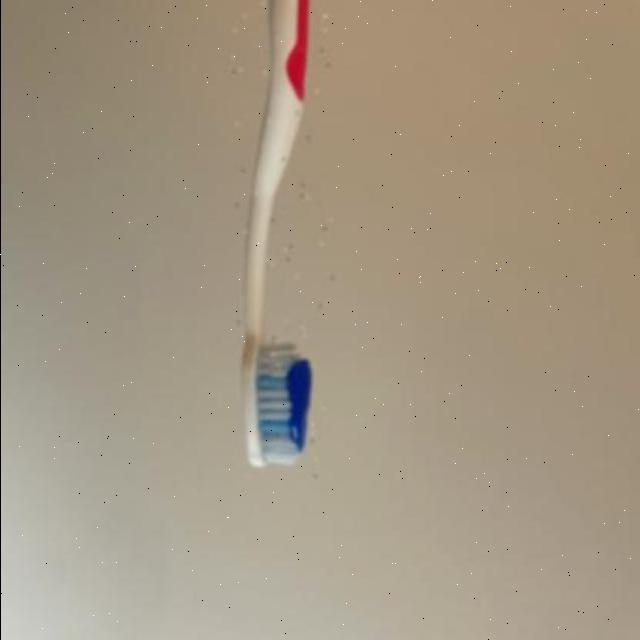toothbrush: (231, 1, 335, 483)
